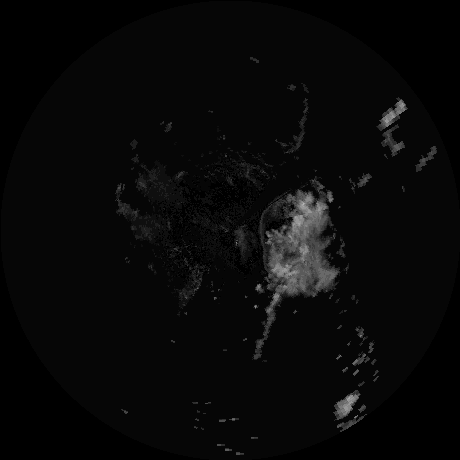frontgust: (257, 210, 270, 273)
